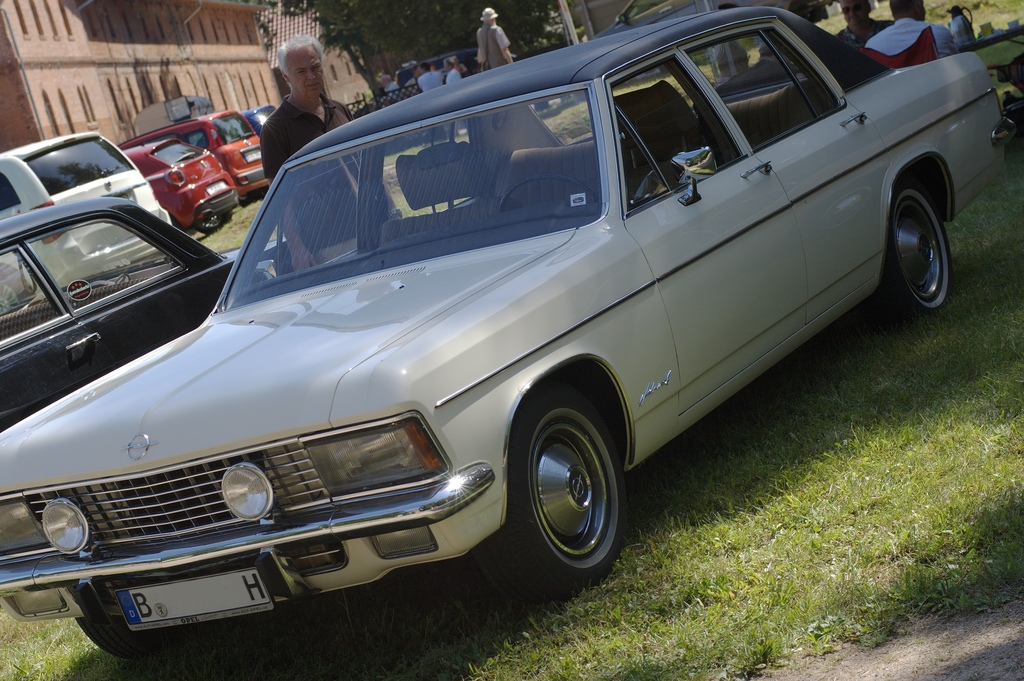Person: (258, 0, 953, 274)
